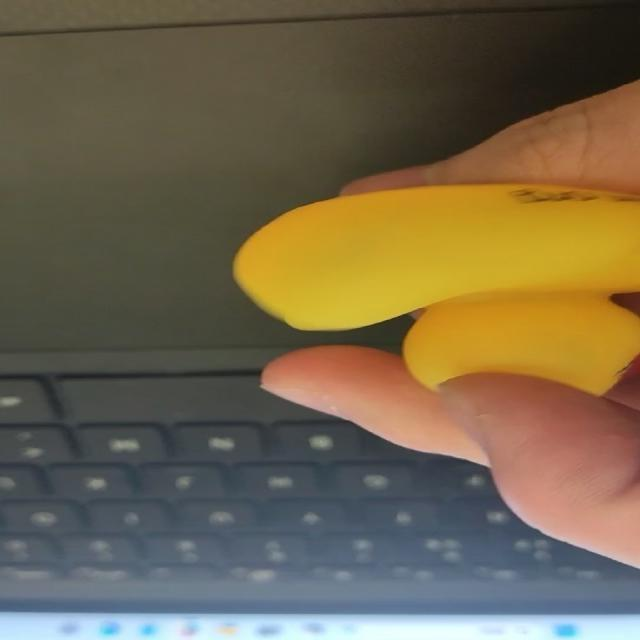rubber-duck: (233, 183, 638, 393)
